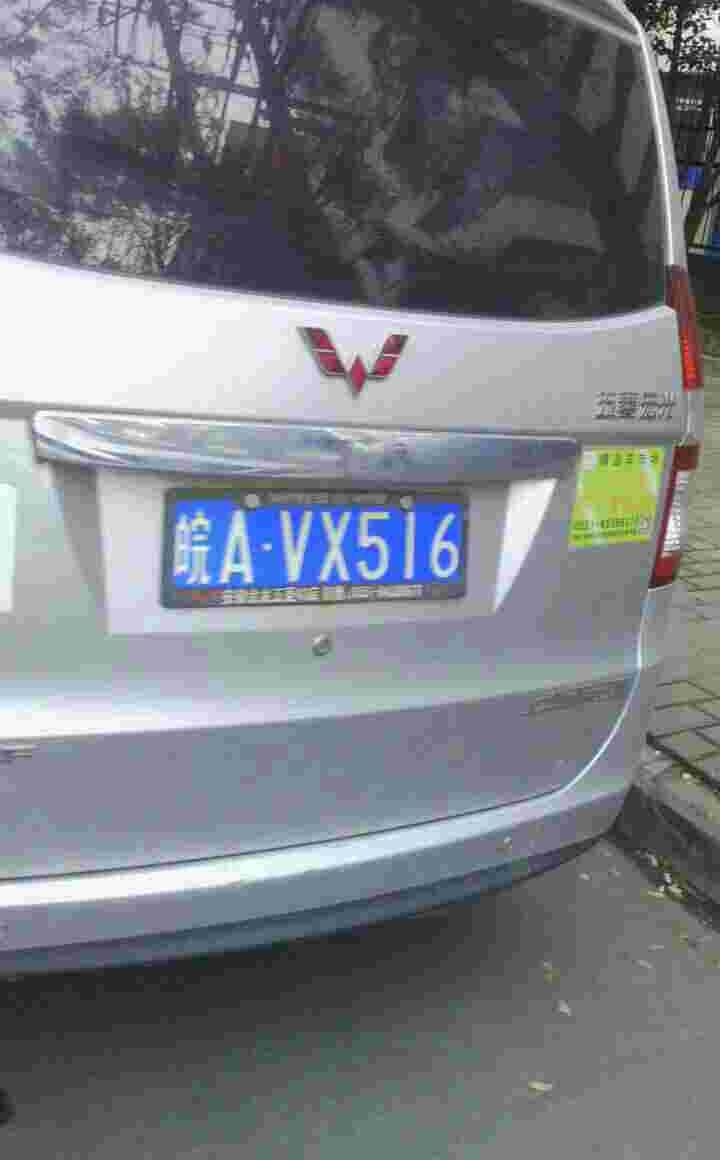car: (164, 491, 477, 598)
